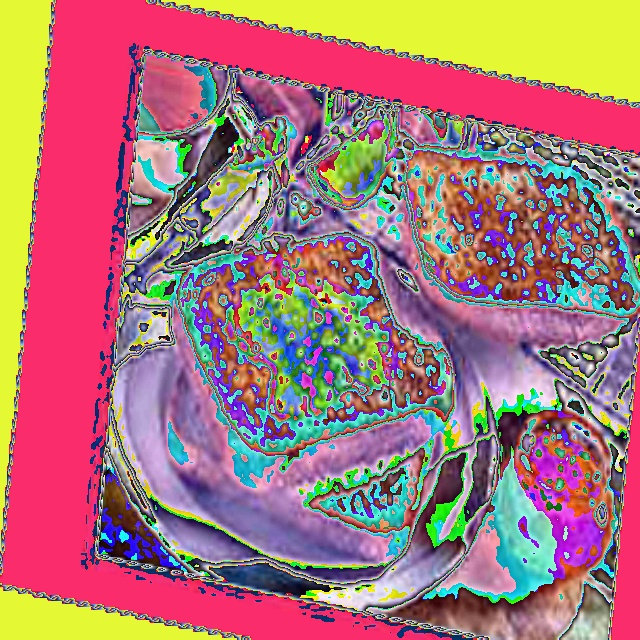background: (123, 148, 617, 580), (163, 230, 460, 564), (241, 142, 639, 348), (100, 104, 402, 210), (56, 57, 287, 169), (83, 48, 220, 134)
